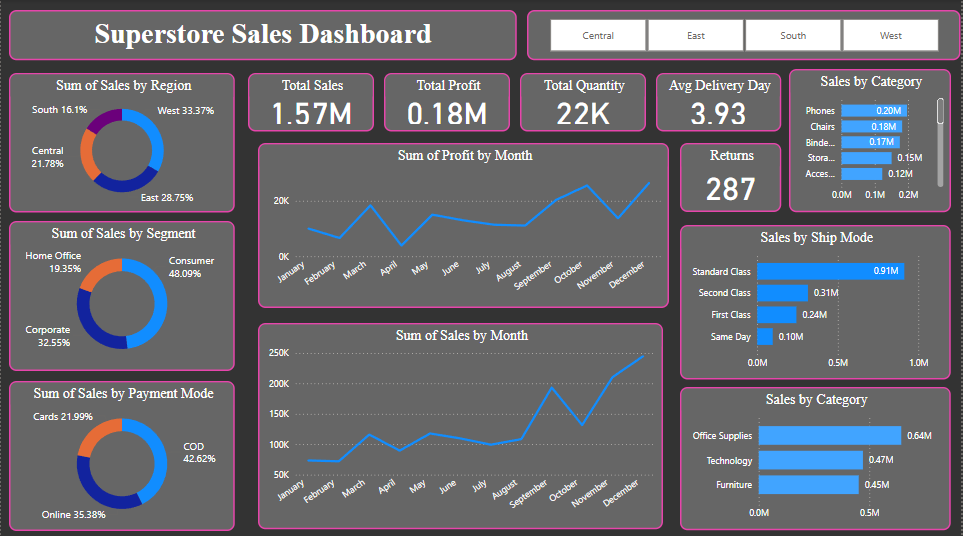

Layout of this report page (visuals, bound fields, positions):
{"tool":"powerbi","page":{"name":"Page 1","canvas":[1280,720],"ordinal":0},"visuals":[{"type":"card","title":"Total Profit","fields":{"Values":["Sum(Sheet1.Profit)"]},"box":[510.6,97.7,167.9,78.5],"z":0},{"type":"card","title":"Total Sales","fields":{"Values":["Sum(Sheet1.Sales)"]},"box":[328.9,97.7,167.9,78.5],"z":1000},{"type":"card","title":"Total Quantity","fields":{"Values":["Sum(Sheet1.Quantity)"]},"box":[692.3,97.7,167.9,78.5],"z":2000},{"type":"card","title":"Avg Delivery Day","fields":{"Values":["Avg(Sales.Custom_avg)"]},"box":[874,97.7,166.5,78.5],"z":3000},{"type":"textbox","box":[11,13.8,677.2,67.4],"z":4000},{"type":"donutChart","fields":{"Y":["Sum(Sales.Sales)"],"Category":["Sales.Region"]},"box":[11,97.7,301.4,185.8],"z":5000},{"type":"donutChart","fields":{"Y":["Sum(Sales.Sales)"],"Category":["Sales.Segment"]},"box":[11,294.5,301.4,199.6],"z":6000},{"type":"donutChart","fields":{"Y":["Sum(Sales.Sales)"],"Category":["Sales.Payment Mode"]},"box":[11,507.9,301.4,199.6],"z":7000},{"type":"slicer","fields":{"Values":["Sales.Region"]},"box":[701.9,13.8,578.1,67.4],"z":8000},{"type":"clusteredBarChart","title":"Sales by Ship Mode","fields":{"Category":["Sales.Ship Mode"],"Y":["Sum(Sales.Sales)"]},"box":[905.6,300,360.6,206.5],"z":9000},{"type":"clusteredBarChart","title":"Sales by Category","fields":{"Category":["Sales.Category"],"Y":["Sum(Sales.Sales)"]},"box":[905.6,516.1,360.6,191.3],"z":10000},{"type":"lineChart","fields":{"Category":["Sales.Order Date.Variation.Date Hierarchy.Year","Sales.Order Date.Variation.Date Hierarchy.Quarter","Sales.Order Date.Variation.Date Hierarchy.Month","Sales.Order Date.Variation.Date Hierarchy.Day"],"Y":["Sum(Sales.Profit)"]},"box":[342.7,191.3,547.8,220.2],"z":11000},{"type":"lineChart","fields":{"Category":["Sales.Order Date.Variation.Date Hierarchy.Year","Sales.Order Date.Variation.Date Hierarchy.Quarter","Sales.Order Date.Variation.Date Hierarchy.Month","Sales.Order Date.Variation.Date Hierarchy.Day"],"Y":["Sum(Sales.Sales)"]},"box":[342.7,430.8,539.5,275.3],"z":12000},{"type":"clusteredBarChart","title":"Sales by Category","fields":{"Category":["Sales.Sub-Category"],"Y":["Sum(Sales.Sales)"]},"box":[1050.2,92.2,216.1,191.3],"z":13000},{"type":"card","title":"Returns","fields":{"Values":["Sum(Sales.Returns)"]},"box":[905.6,191.3,134.9,92.2],"z":14000}]}

Visuals, with their boxes in screenshot pixels (x1, y1, x2, y2), scaled from the page's 1280x720 canvas onto the 965x536 screenshot:
"Total Profit" card: 385, 73, 512, 131
"Total Sales" card: 248, 73, 375, 131
"Total Quantity" card: 522, 73, 649, 131
"Avg Delivery Day" card: 659, 73, 784, 131
textbox: 8, 10, 519, 60
donutChart - Sum(Sales.Sales) x Sales.Region: 8, 73, 236, 211
donutChart - Sum(Sales.Sales) x Sales.Segment: 8, 219, 236, 368
donutChart - Sum(Sales.Sales) x Sales.Payment Mode: 8, 378, 236, 527
slicer - Sales.Region: 529, 10, 964, 60
"Sales by Ship Mode" clusteredBarChart: 683, 223, 955, 377
"Sales by Category" clusteredBarChart: 683, 384, 955, 527
lineChart - Sales.Order Date.Variation.Date Hierarchy.Year x Sales.Order Date.Variation.Date Hierarchy.Quarter: 258, 142, 671, 306
lineChart - Sales.Order Date.Variation.Date Hierarchy.Year x Sales.Order Date.Variation.Date Hierarchy.Quarter: 258, 321, 665, 526
"Sales by Category" clusteredBarChart: 792, 69, 955, 211
"Returns" card: 683, 142, 784, 211
